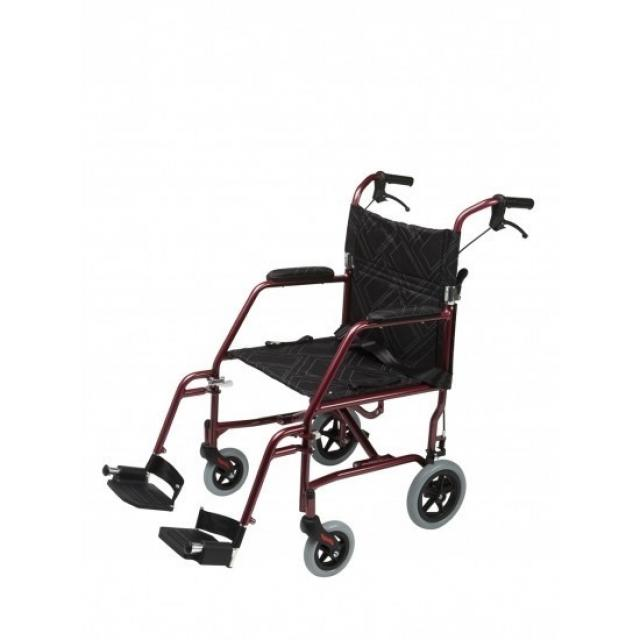wheelchair: (70, 145, 576, 586)
